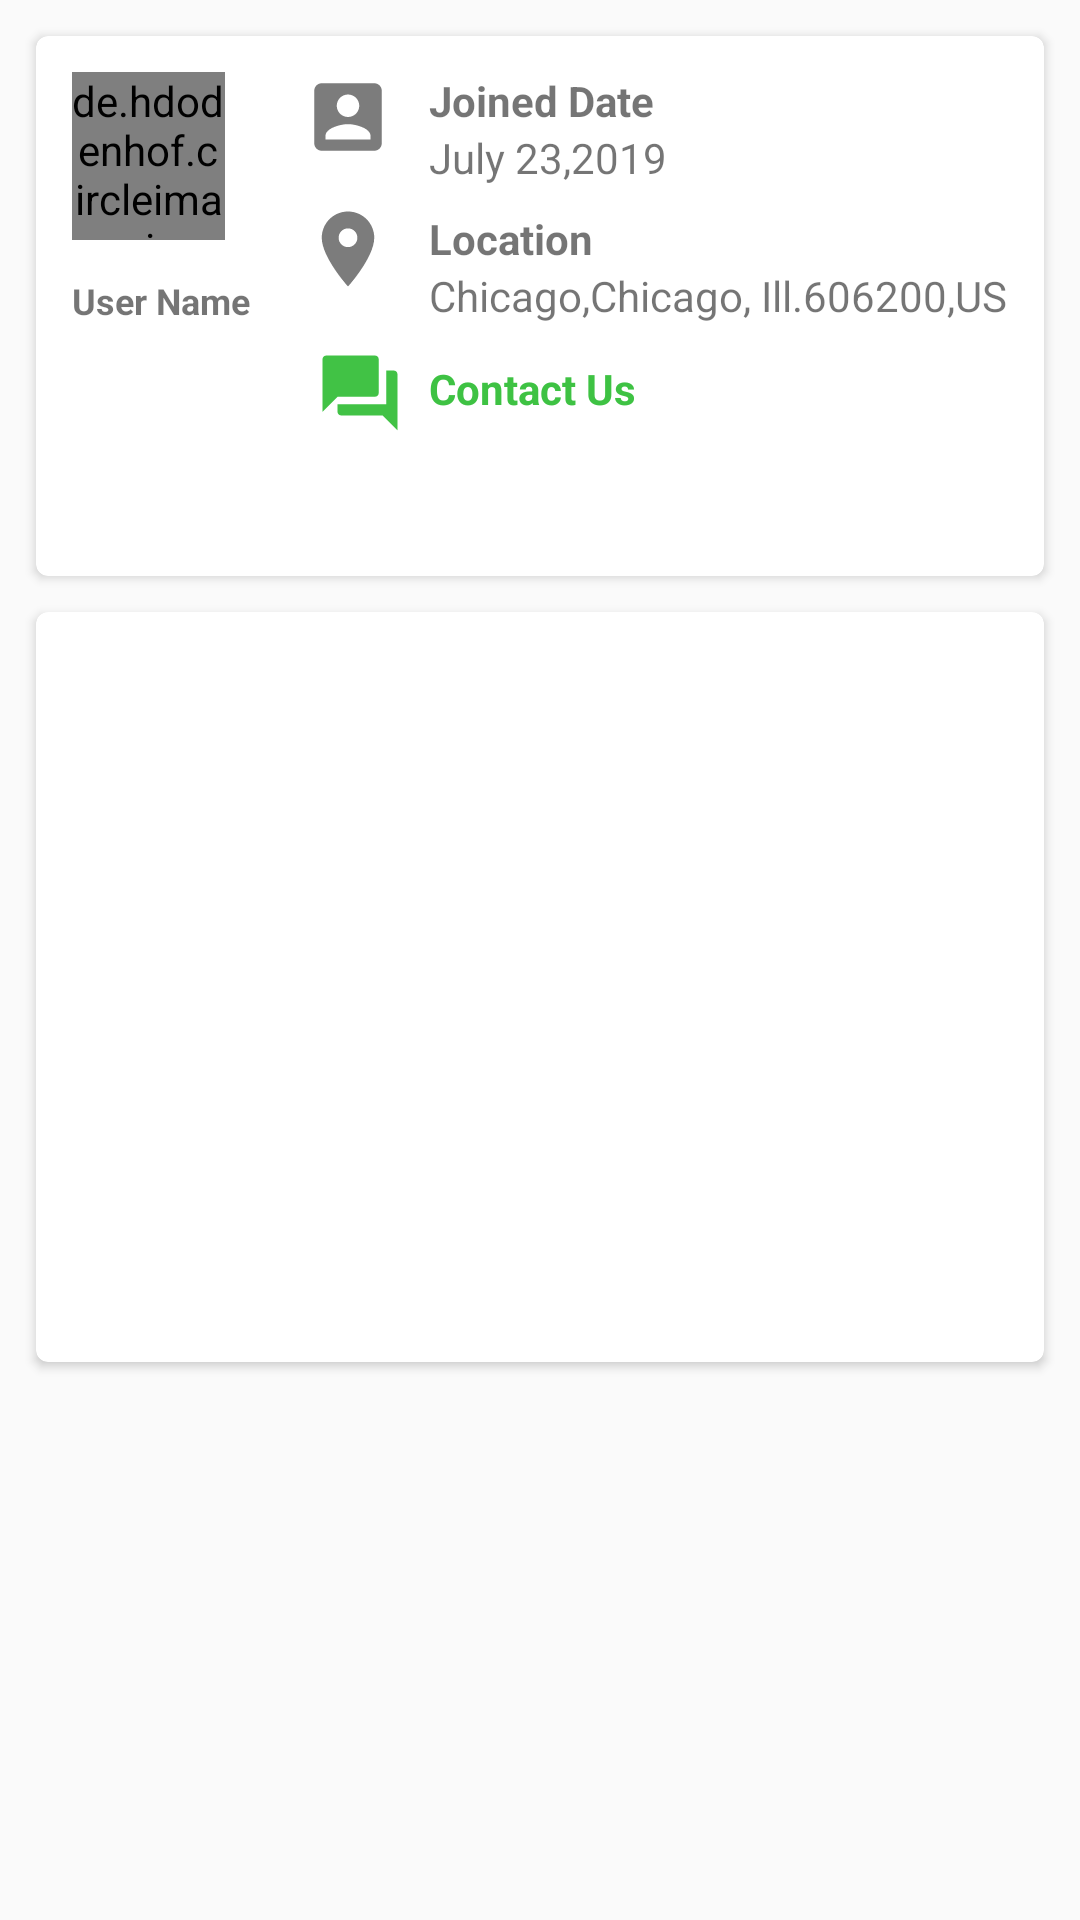

Icon bounding boxes for this 1080*1920 phone screenshot, format (x1, y1, x2, y2):
account box: (314, 83, 382, 151)
forum: (322, 355, 398, 430)
